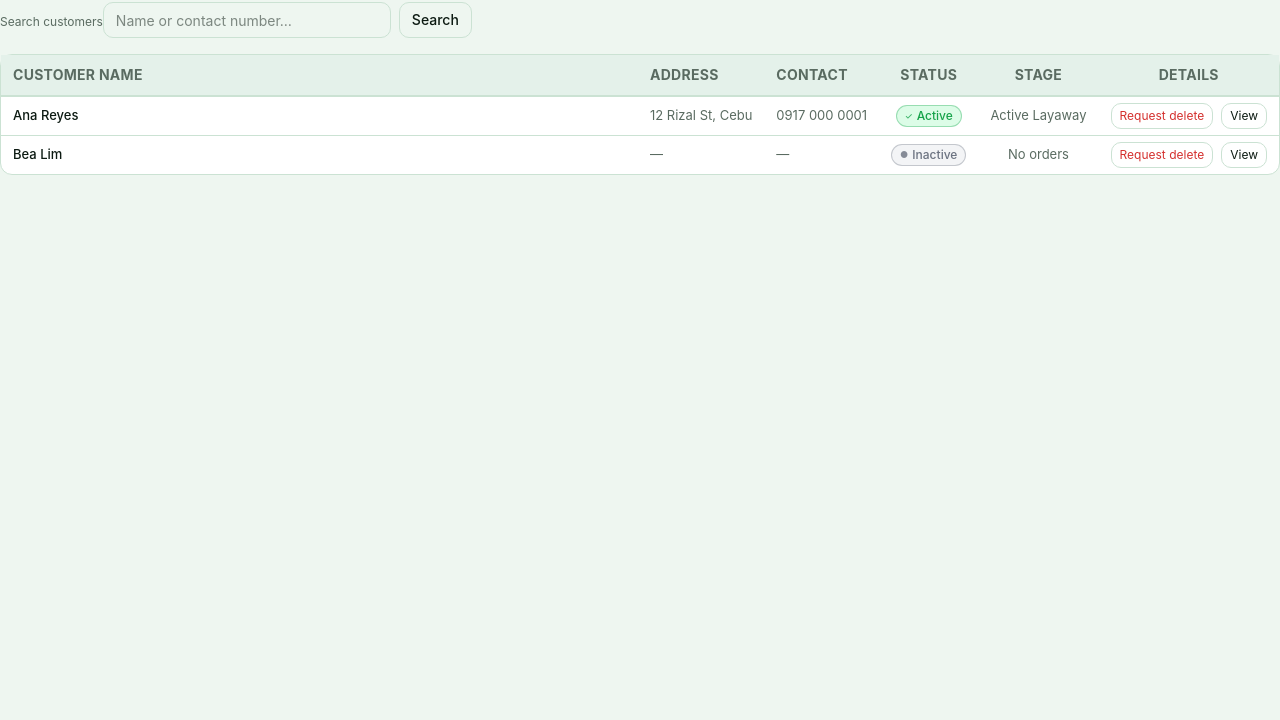
CustomersView — detail modal (no right-side panel) › shows a dash for a missing value in the modal
// Bea Lim has no address/contact — the modal must show "—", never blank.
Click the button with test id "customer-view-c2" at point(1244, 154), box [1221,142,1267,168]
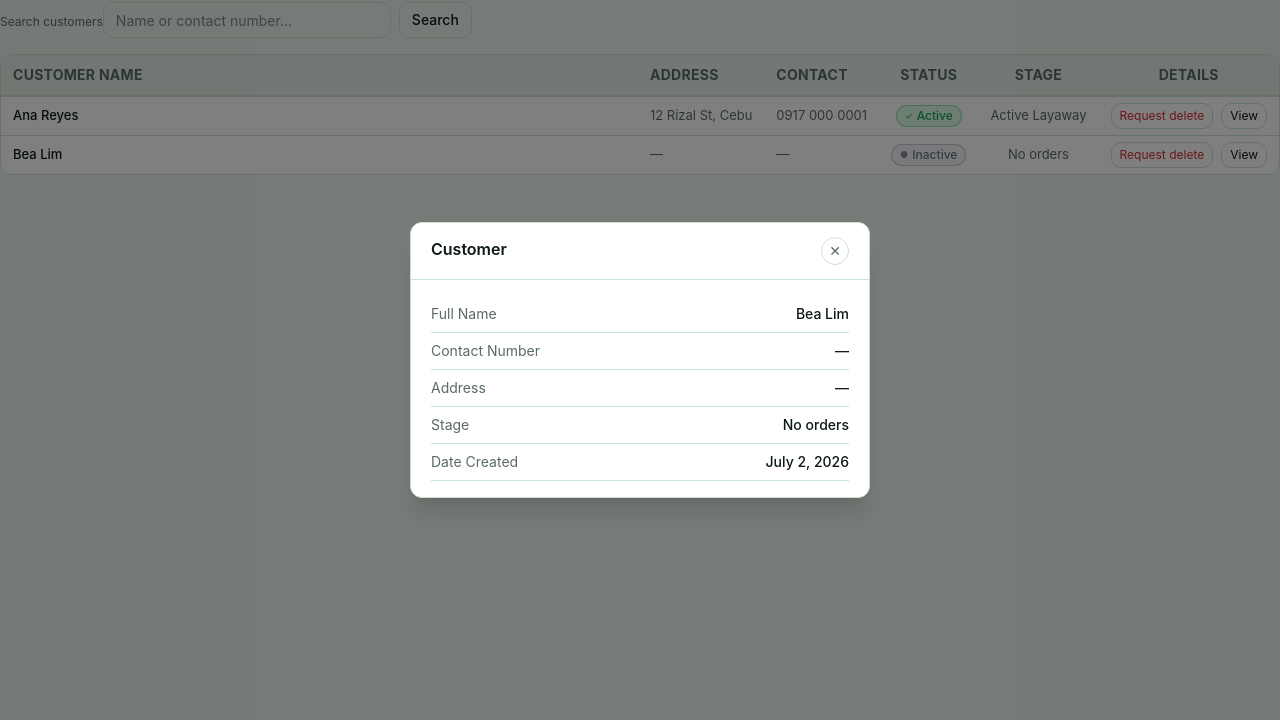
Expected: the text "—" is shown, [638,135,764,174]
Expected: the element with test id "customer-detail-modal" is shown, [431,296,849,481]
